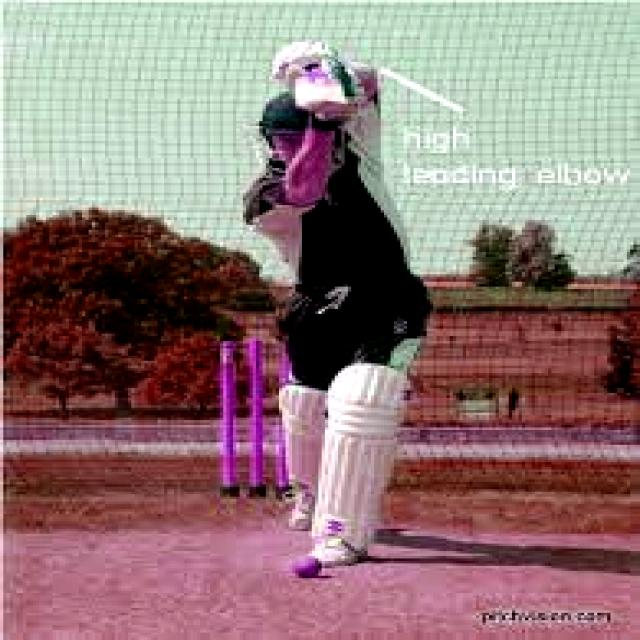toe: (294, 88, 344, 112)
